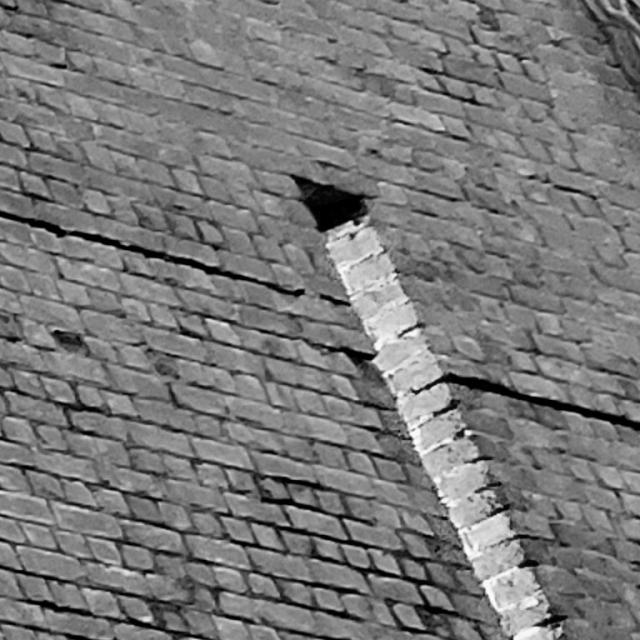crack: (1, 209, 352, 305), (410, 373, 640, 429), (318, 342, 377, 362)
